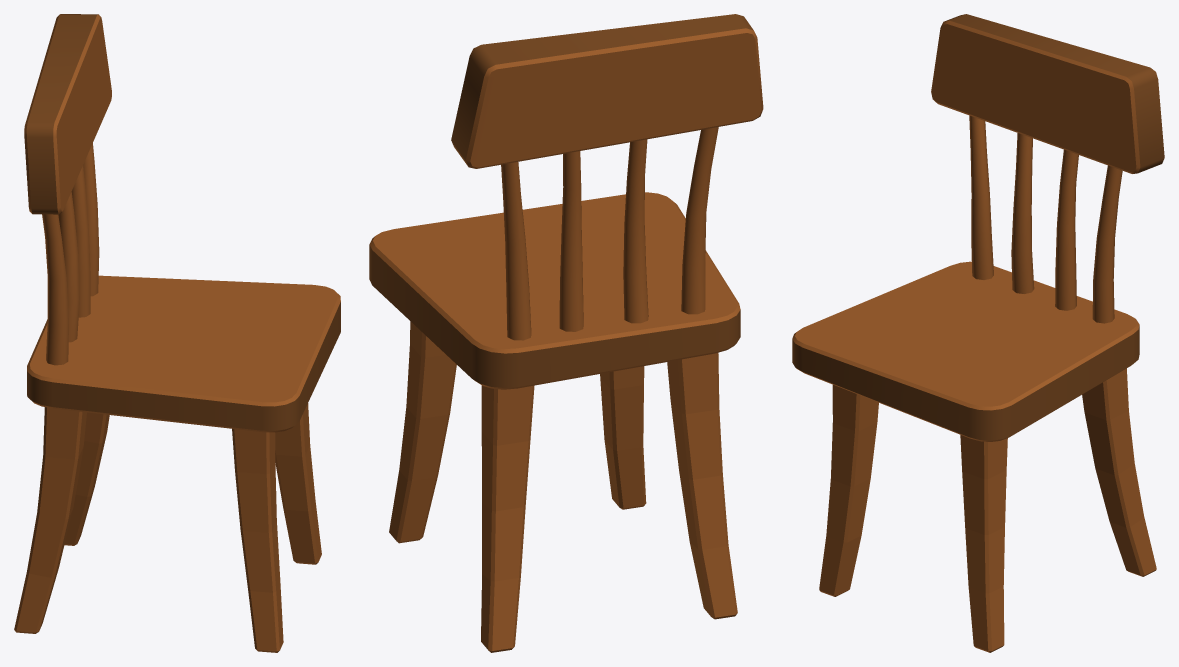
The model's file is Chair.001.fbx.
The picture shows the model from 3 angles, left to right: view 1: azimuth 30°, elevation 25°; view 2: azimuth 150°, elevation 25°; view 3: azimuth 270°, elevation 25°; orthographic projection. The views are drawn at different scales.
Visible parts, largest first — view 1: Chair.001; view 2: Chair.001; view 3: Chair.001.
Part boxes in pixels (bbox=[...]): Chair.001: bbox=[14, 14, 340, 652]; Chair.001: bbox=[369, 14, 763, 652]; Chair.001: bbox=[792, 14, 1164, 652].
Bounding box in the file's own units: 0.7237 × 1.11 × 0.7436.
